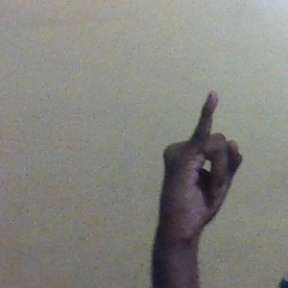I: (159, 90, 242, 232)
